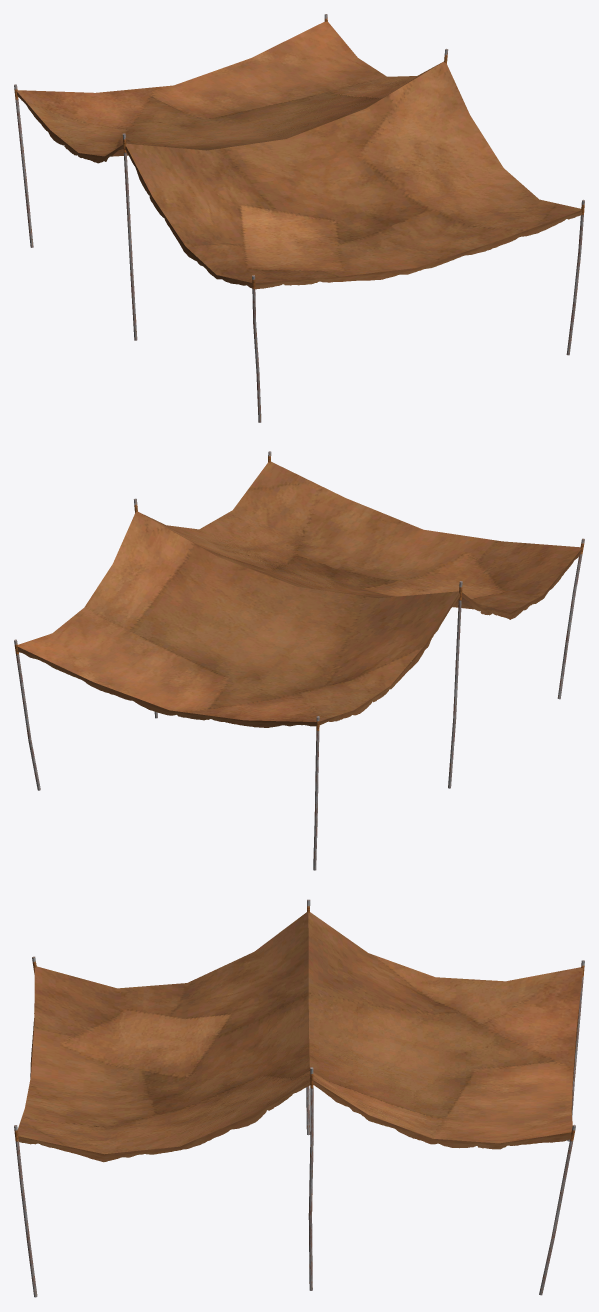
Rendered from thm_tato_jawa_tent_med_l0.fbx.
3 views of the same model, one above another, from view 1: azimuth 30°, elevation 25°; view 2: azimuth 150°, elevation 25°; view 3: azimuth 270°, elevation 25° (orthographic). The views are drawn at different scales.
Parts seen in each view (by area): view 1: mesh_node; view 2: mesh_node; view 3: mesh_node.
Boxes of the visible parts, bbox=[...] form: mesh_node: bbox=[14, 14, 584, 422]; mesh_node: bbox=[14, 451, 584, 870]; mesh_node: bbox=[14, 899, 584, 1297].
Bounding box in the file's own units: 6.55 × 4.08 × 9.03.
